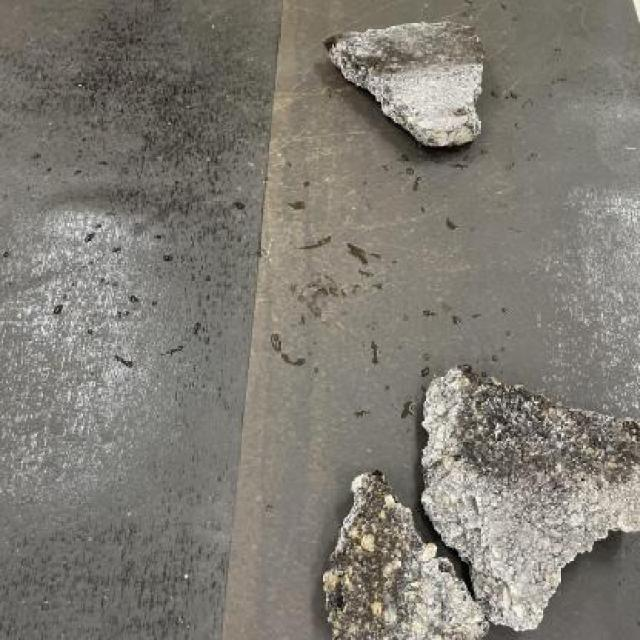Road Debris: (467, 372, 633, 483), (323, 473, 419, 633), (331, 23, 504, 74)
